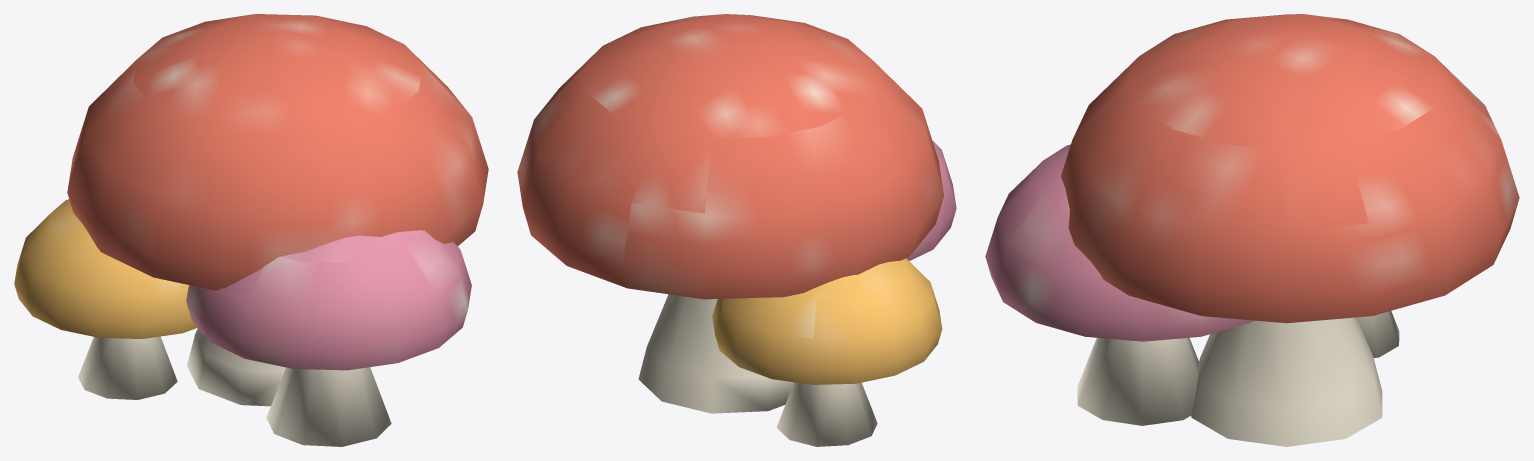
The model's file is mushroom.gltf.
The picture shows the model from 3 angles, left to right: view 1: azimuth 30°, elevation 25°; view 2: azimuth 150°, elevation 25°; view 3: azimuth 270°, elevation 25°; orthographic projection. The views are drawn at different scales.
Parts seen in each view (by area): view 1: mushroom; view 2: mushroom; view 3: mushroom.
Boxes of the visible parts, x1=… form: mushroom: x1=14, y1=14, x2=488, y2=446; mushroom: x1=517, y1=14, x2=956, y2=446; mushroom: x1=985, y1=14, x2=1519, y2=446.
Size of the model in its own units: 0.675 by 0.534 by 0.7024.
Materials: 1 (1 with a texture image).
